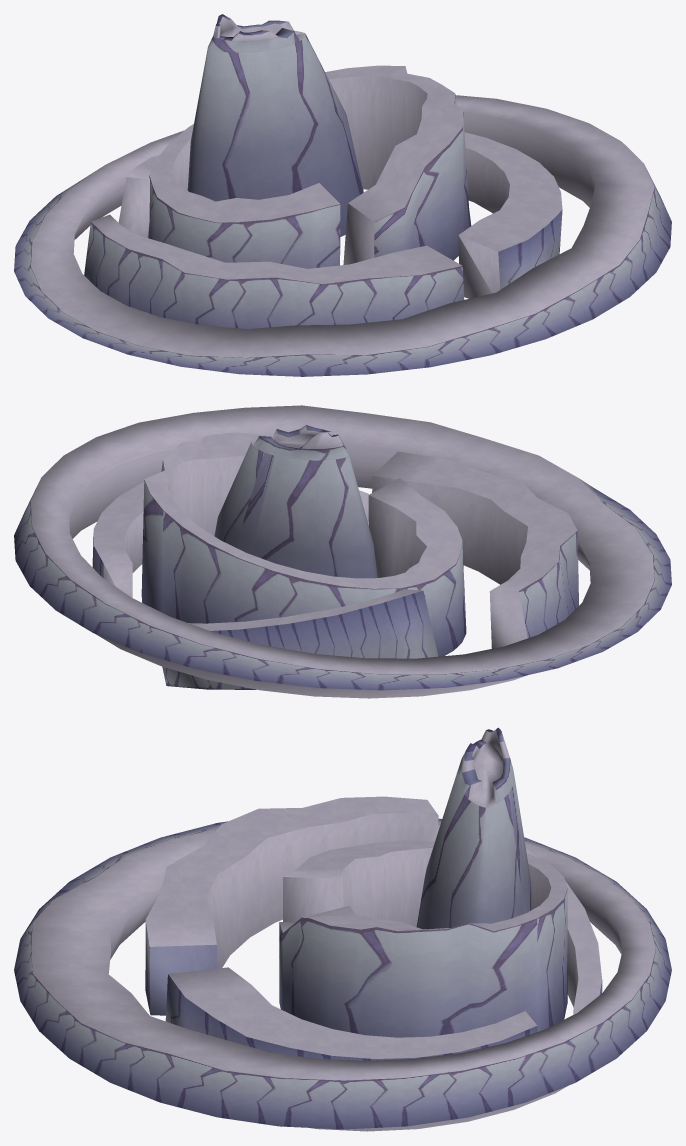
Rendered from island1ofhell.glb.
3 renders of one model, top to bottom at view 1: azimuth 30°, elevation 25°; view 2: azimuth 150°, elevation 25°; view 3: azimuth 270°, elevation 25°, orthographic. The views are drawn at different scales.
Parts seen in each view (by area): view 1: Cylinder; view 2: Cylinder; view 3: Cylinder.
Boxes of the visible parts, left/top/right/bottom form: Cylinder: left=14, top=14, right=671, bottom=376; Cylinder: left=14, top=405, right=671, bottom=698; Cylinder: left=14, top=727, right=671, bottom=1131.
Size of the model in its own units: 160 by 65.62 by 140.
2 materials, 2 textured.
